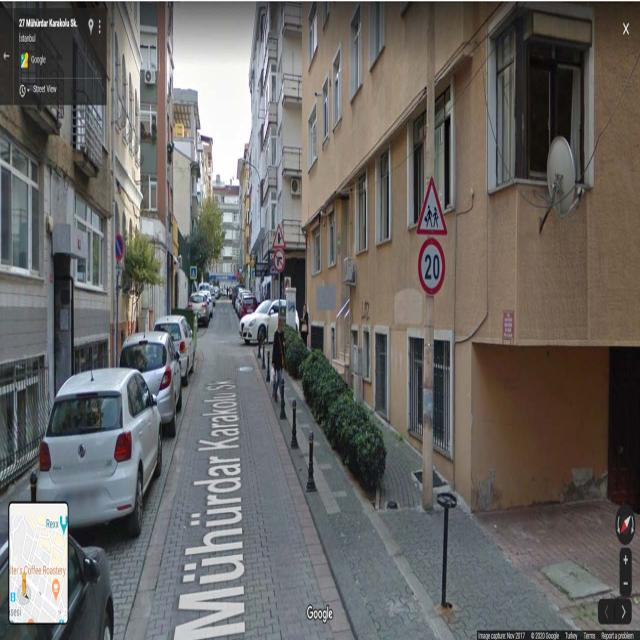20: (420, 238, 446, 293)
parkyasak: (112, 233, 124, 257)
sagadonulmez: (272, 251, 286, 271)
